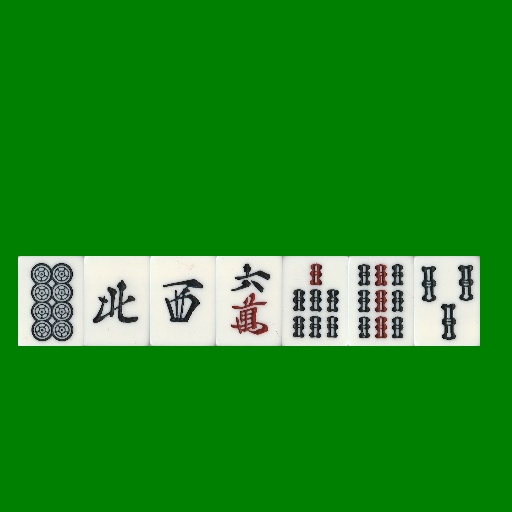3s: (414, 256, 480, 346)
6m: (216, 256, 282, 346)
7s: (282, 256, 348, 346)
8p: (18, 256, 84, 346)
9s: (348, 256, 414, 346)
north: (84, 256, 150, 346)
west: (150, 256, 216, 346)
